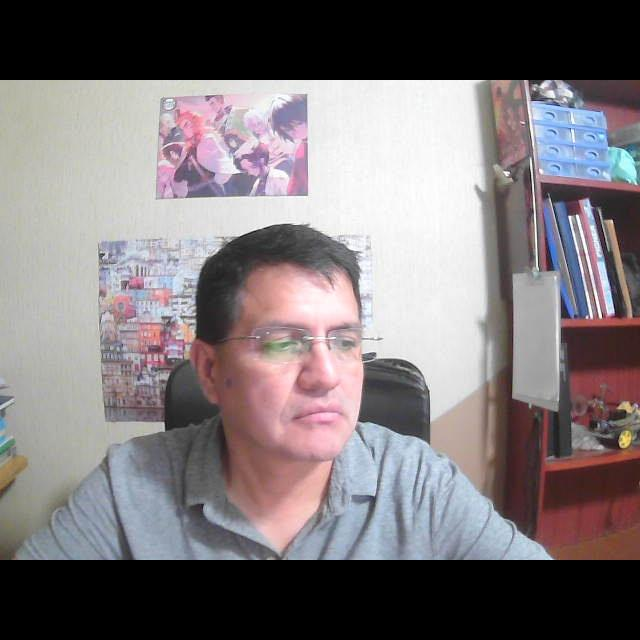cesar: (172, 208, 394, 497)
